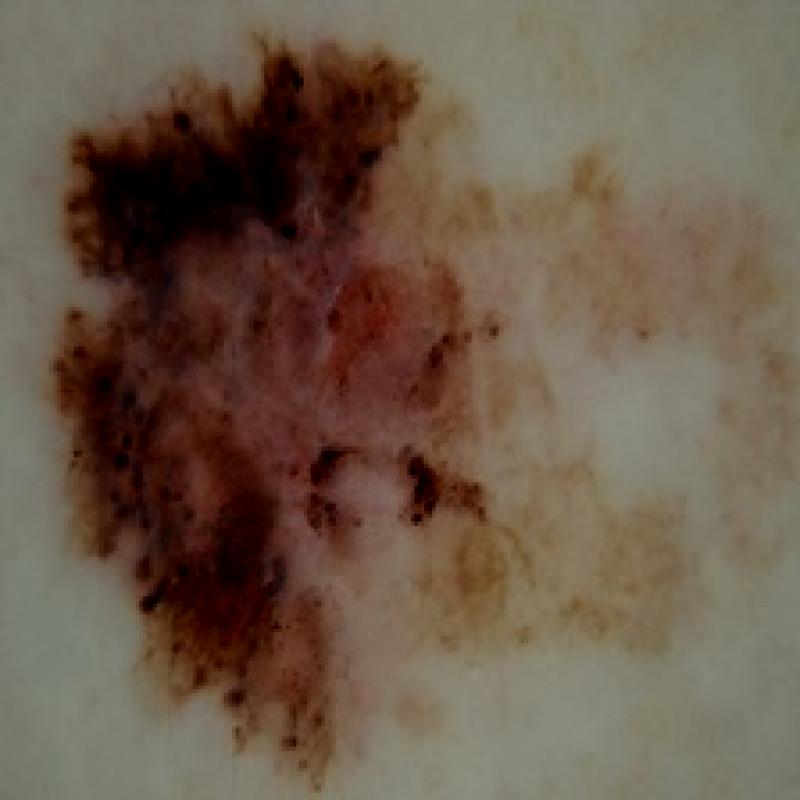malignant: (30, 55, 552, 800)
